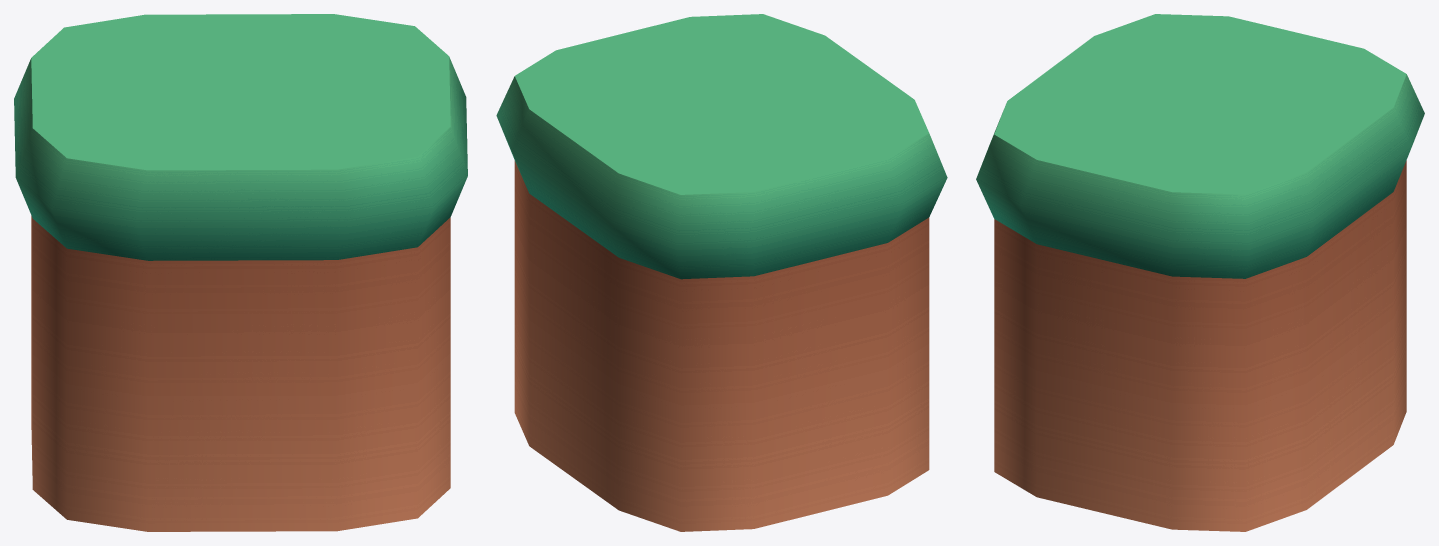
The model's file is block-grass.005_lev2.glb.
3 views of the same model, side by side, from view 1: azimuth 30°, elevation 25°; view 2: azimuth 150°, elevation 25°; view 3: azimuth 270°, elevation 25° (orthographic). The views are drawn at different scales.
Visible parts, largest first — view 1: block-grass.005_lev2; view 2: block-grass.005_lev2; view 3: block-grass.005_lev2.
Boxes of the visible parts, left/top/right/bottom form: block-grass.005_lev2: left=14, top=14, right=467, bottom=531; block-grass.005_lev2: left=496, top=14, right=947, bottom=531; block-grass.005_lev2: left=976, top=14, right=1424, bottom=531.
Bounding box in the file's own units: 4.64 × 3.72 × 4.48.
1 material, 1 textured.
